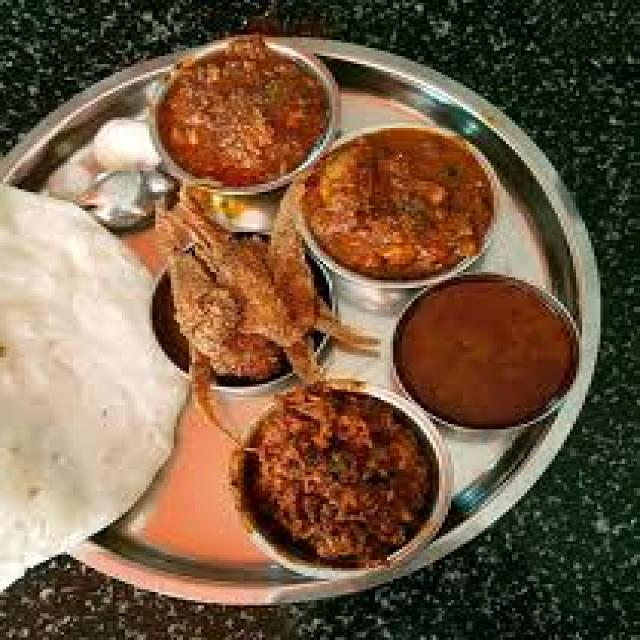RICE BHAKRI: (0, 181, 186, 587)
